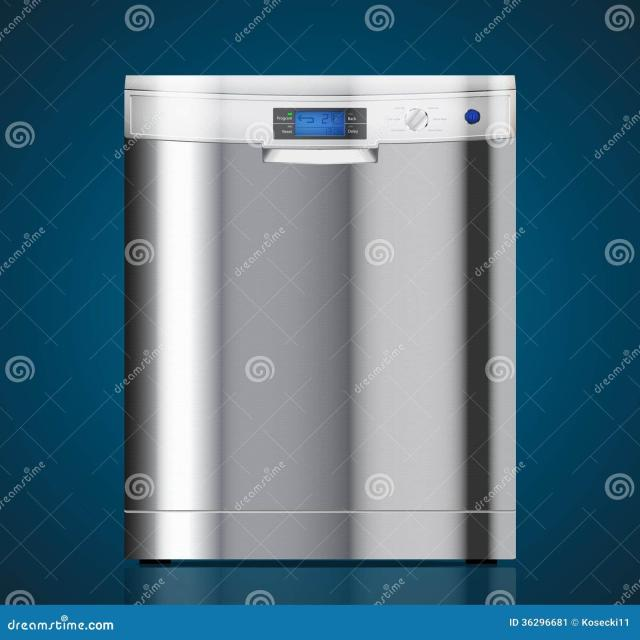dishwasher: (124, 77, 520, 563)
